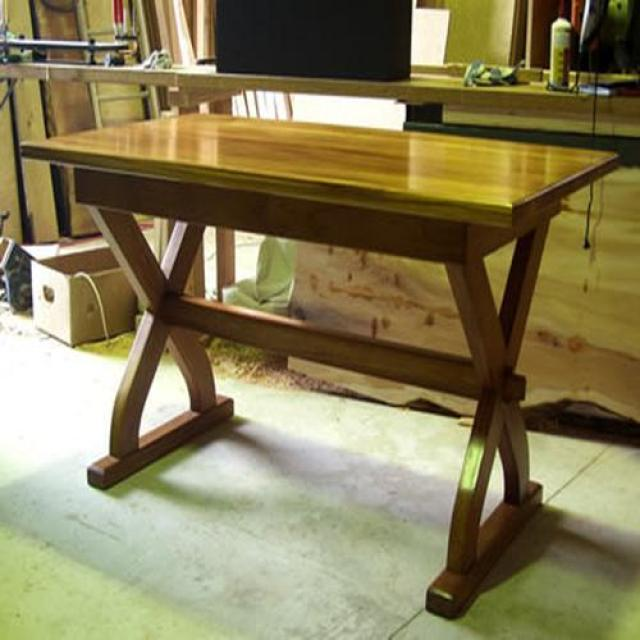table: (31, 116, 622, 616)
